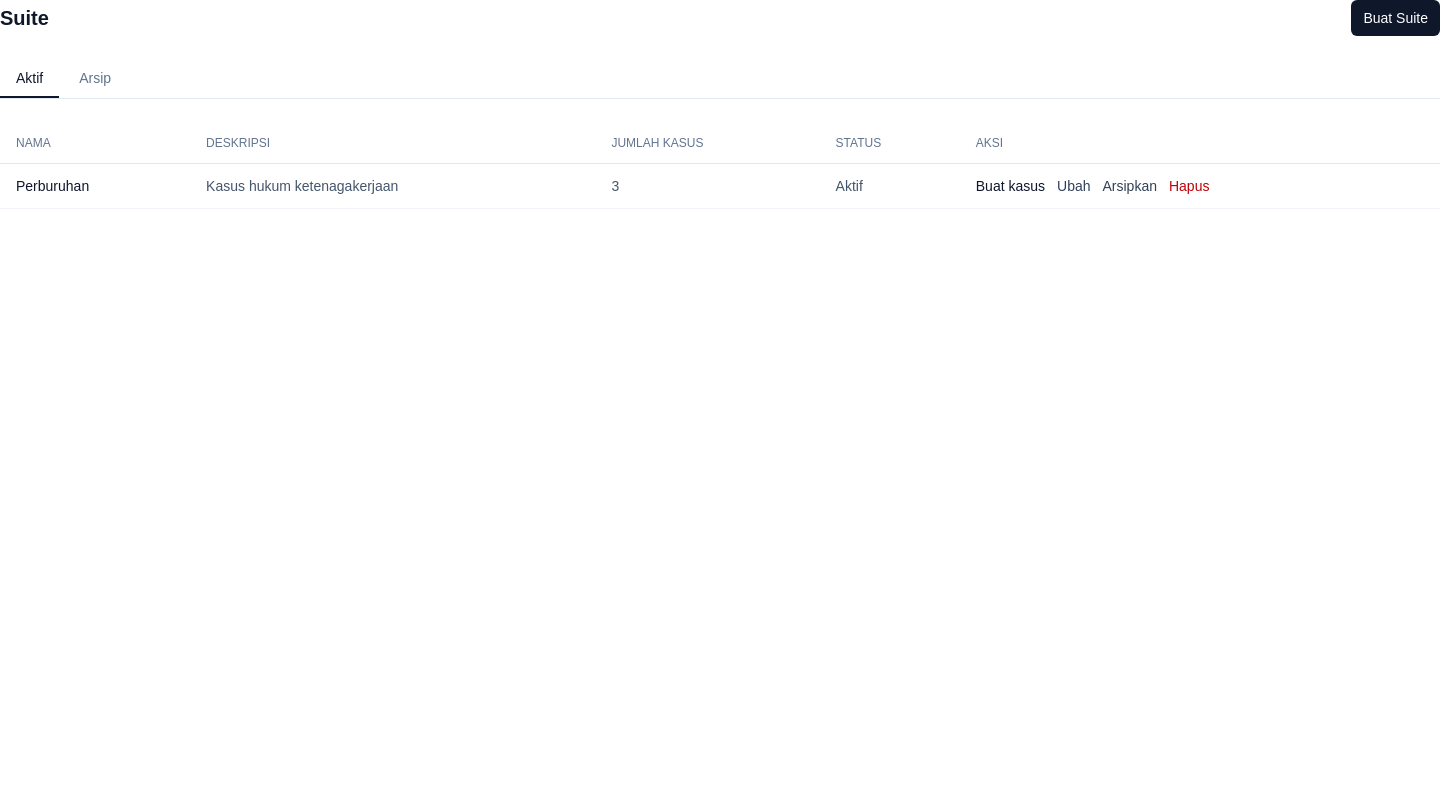
Test case: SuitesPage › closes the delete dialog and reloads after deleting
The image size is (1440, 810).
Click the button with aria-label "Hapus Perburuhan" at (1189, 186), box 1169,176 -> 1210,196
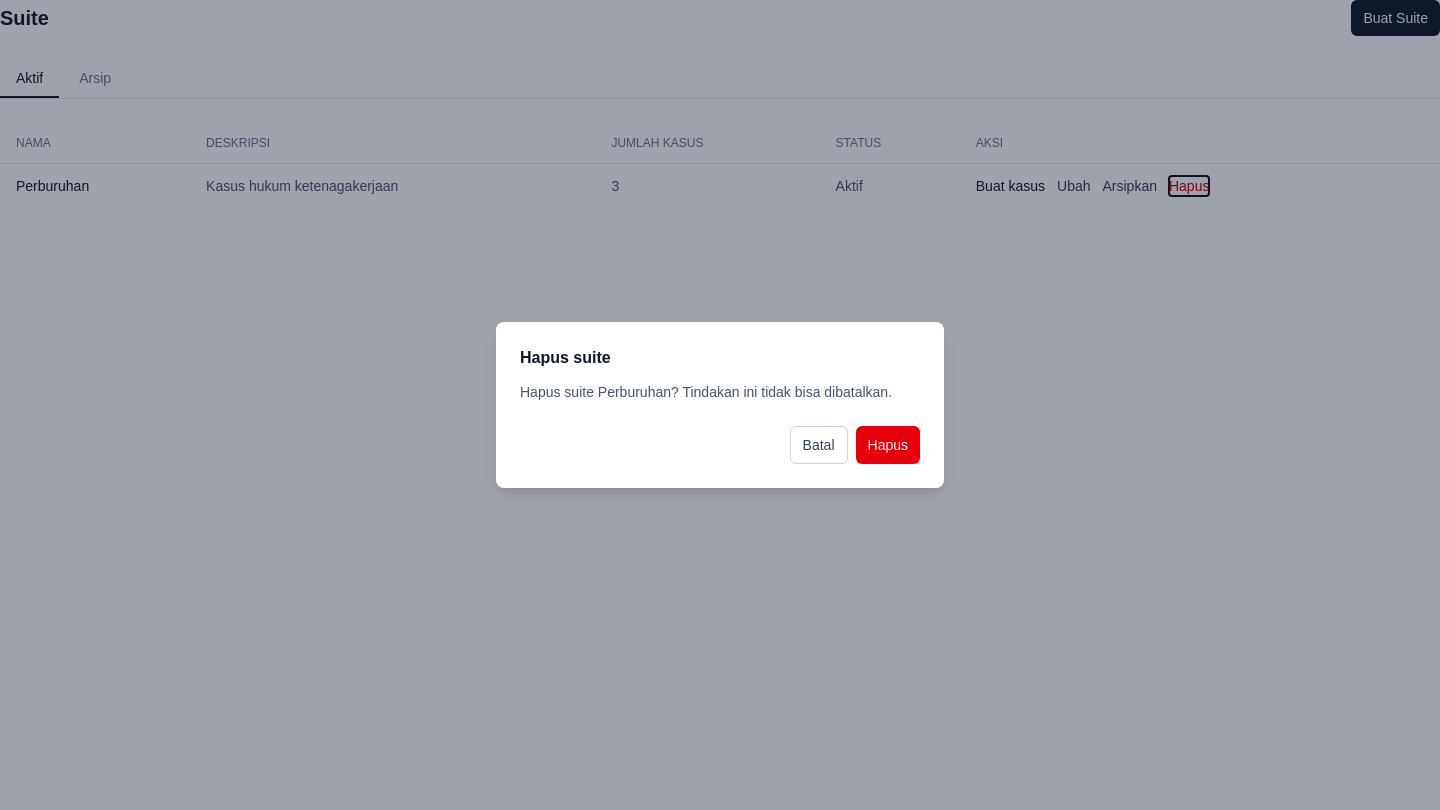
Click the button "Hapus" at (888, 445), box 856,426 -> 920,464
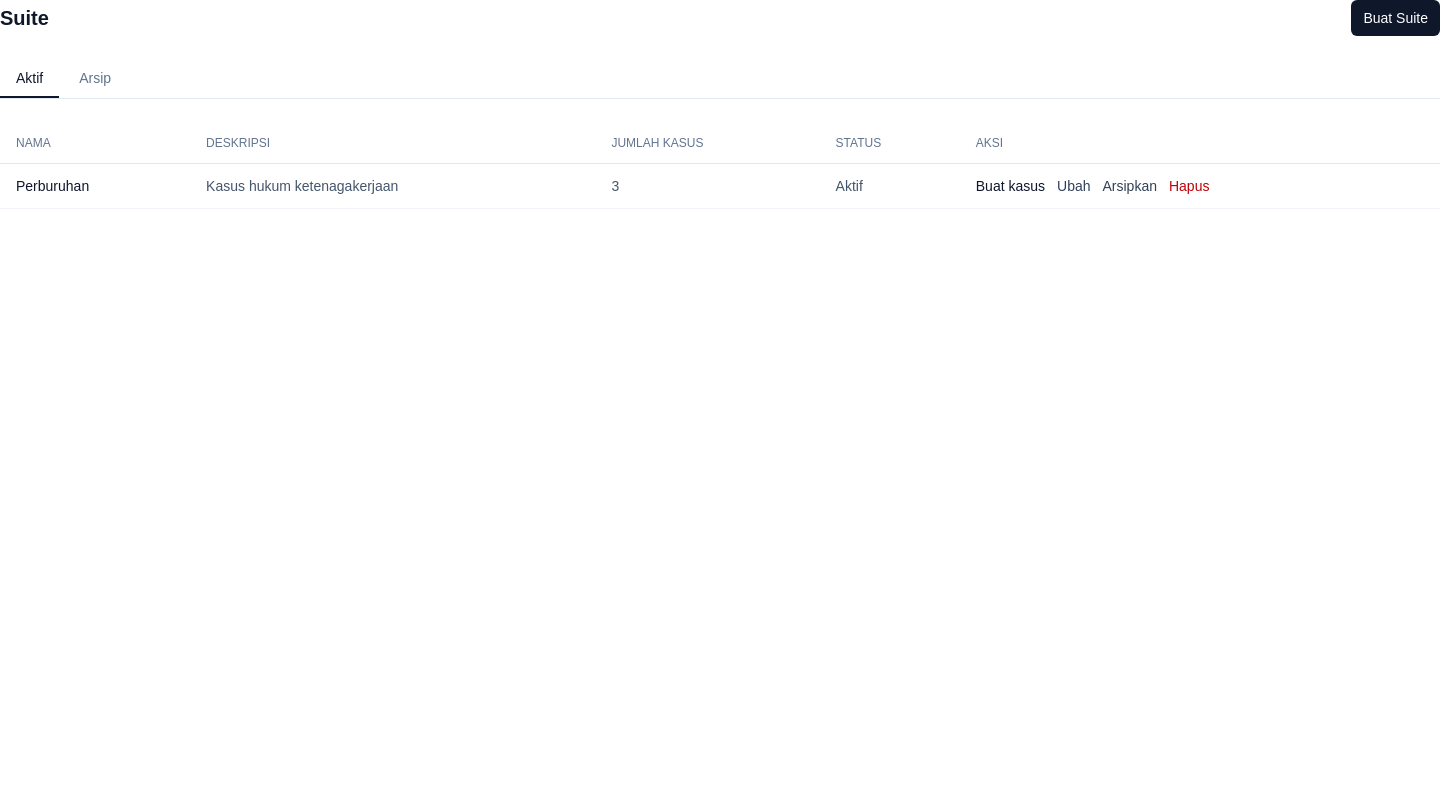
Expected: the dialog is gone
